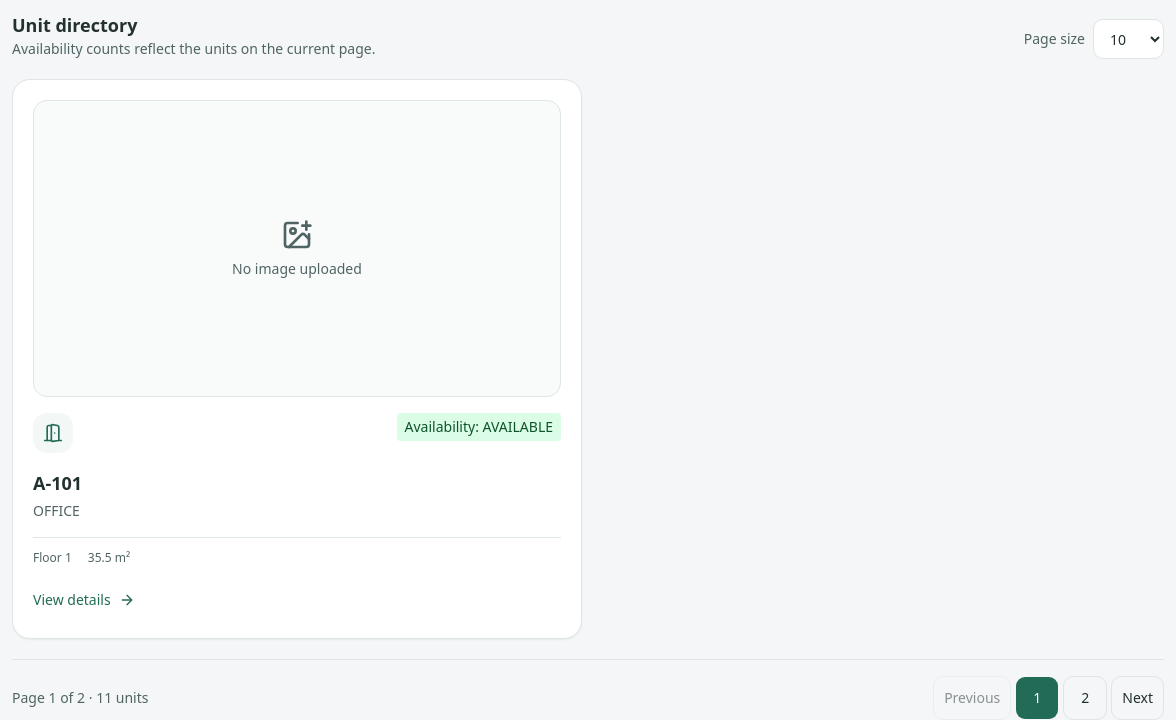
Test: recovers when the final page becomes empty
This screenshot has width=1176, height=720.
(page scrolled)
Click the button with aria-label "Next page" at (1138, 698), box x1=1111 y1=676 x2=1164 y2=719
(page scrolled)
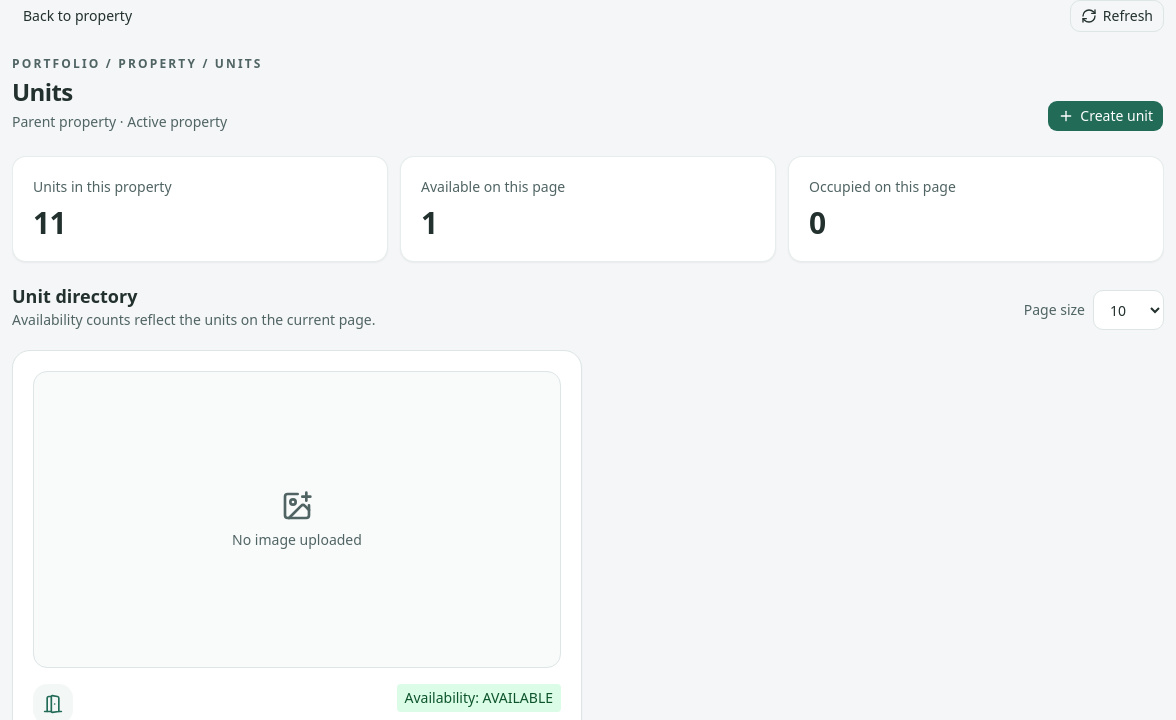
Click the button "Refresh" at (1117, 16), box x1=1070 y1=0 x2=1164 y2=32
(page scrolled)
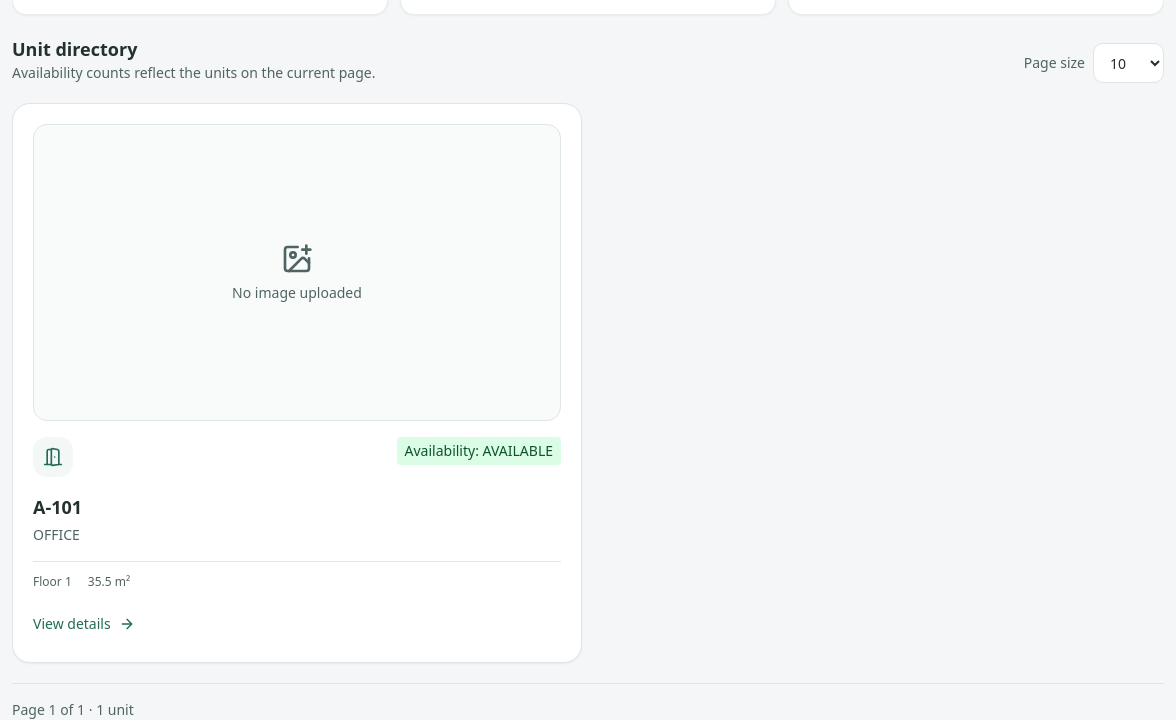
Now the text "Page 1 of 1 · 1 unit" is shown, box x1=12 y1=700 x2=134 y2=719
